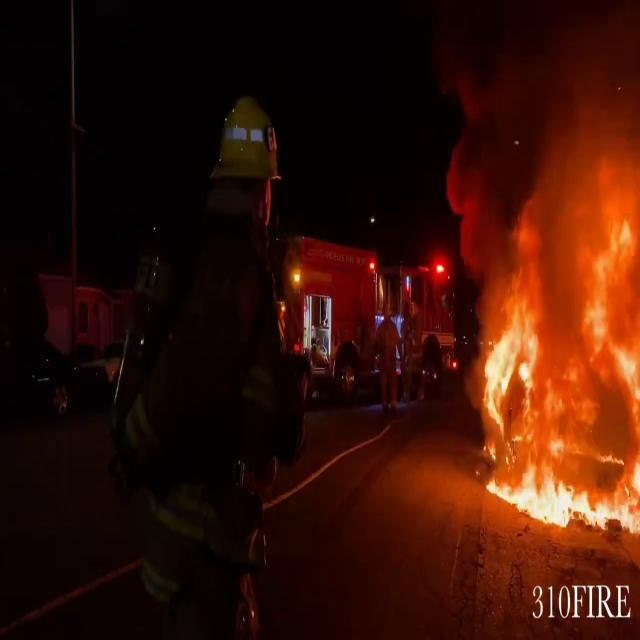Fire: (471, 188, 638, 533)
Smoke: (429, 0, 640, 236)
